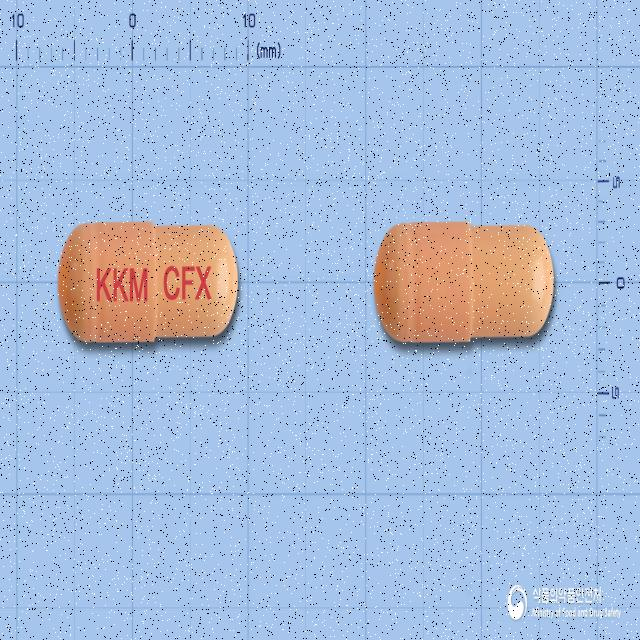Cefick Cap: (56, 216, 242, 352)
